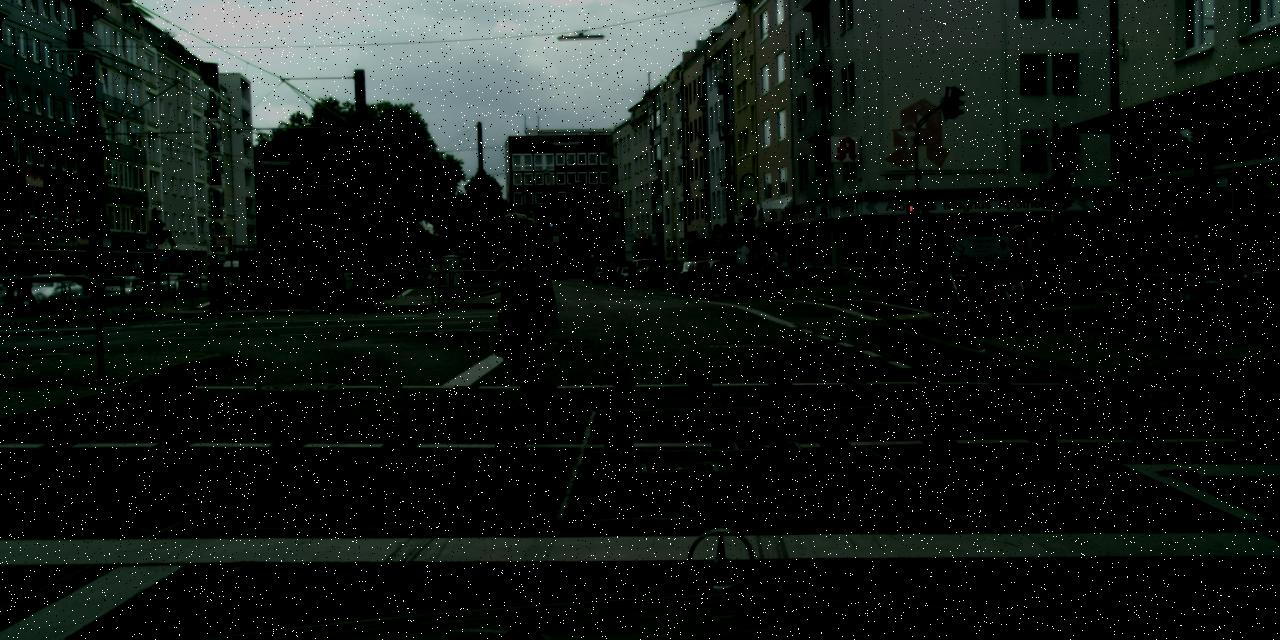ped: (484, 212, 569, 418), (1009, 216, 1046, 308), (1003, 224, 1033, 298), (10, 254, 34, 317), (761, 244, 782, 295), (1072, 230, 1110, 248), (300, 260, 312, 290), (488, 247, 497, 266), (475, 251, 482, 267), (464, 252, 470, 267)
